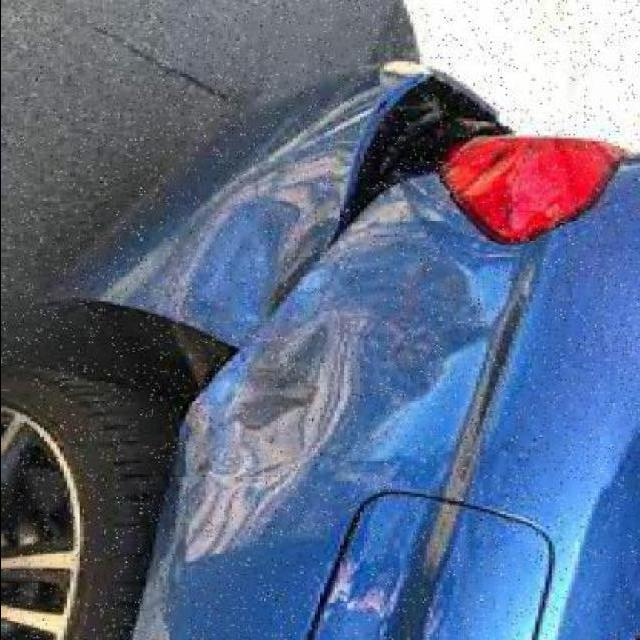quaterpanel-dent: (119, 323, 617, 635)
rear-bumper-dent: (60, 54, 542, 318)
